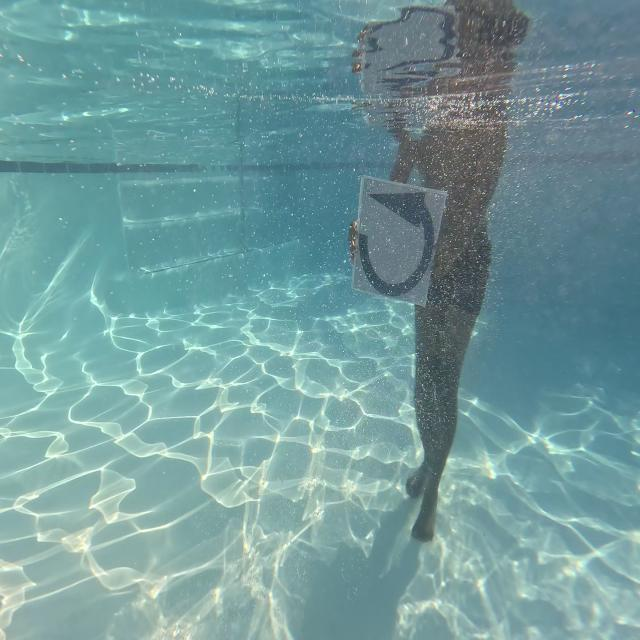blue_side: (355, 174, 448, 304)
